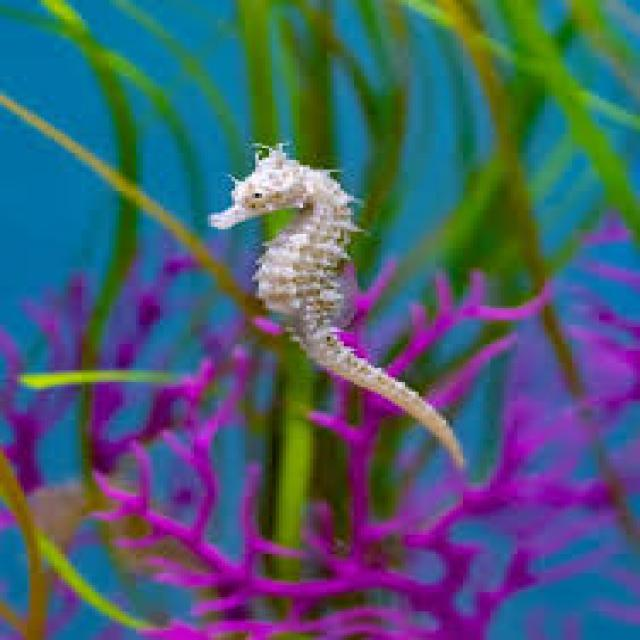SeaHorse: (208, 150, 463, 470)
